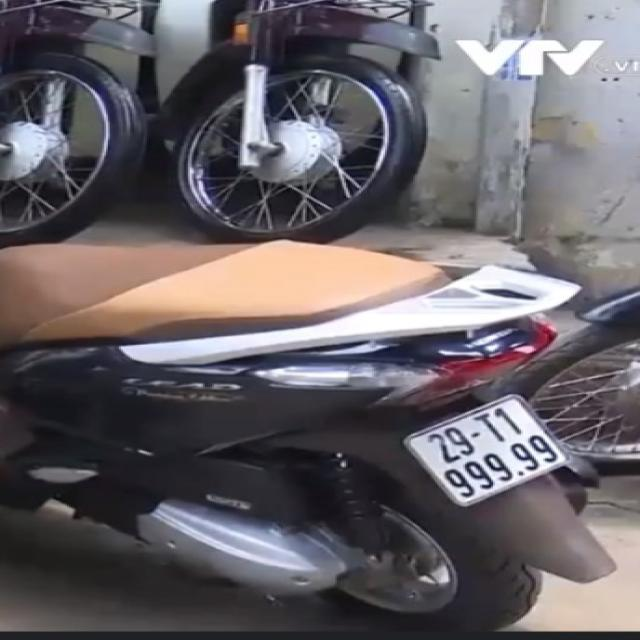1: (494, 402, 523, 434)
2: (423, 431, 460, 466)
9: (528, 430, 560, 464), (443, 467, 476, 499), (447, 422, 477, 457), (505, 441, 540, 471), (467, 460, 497, 491), (484, 451, 510, 483)
T: (471, 413, 506, 441)
